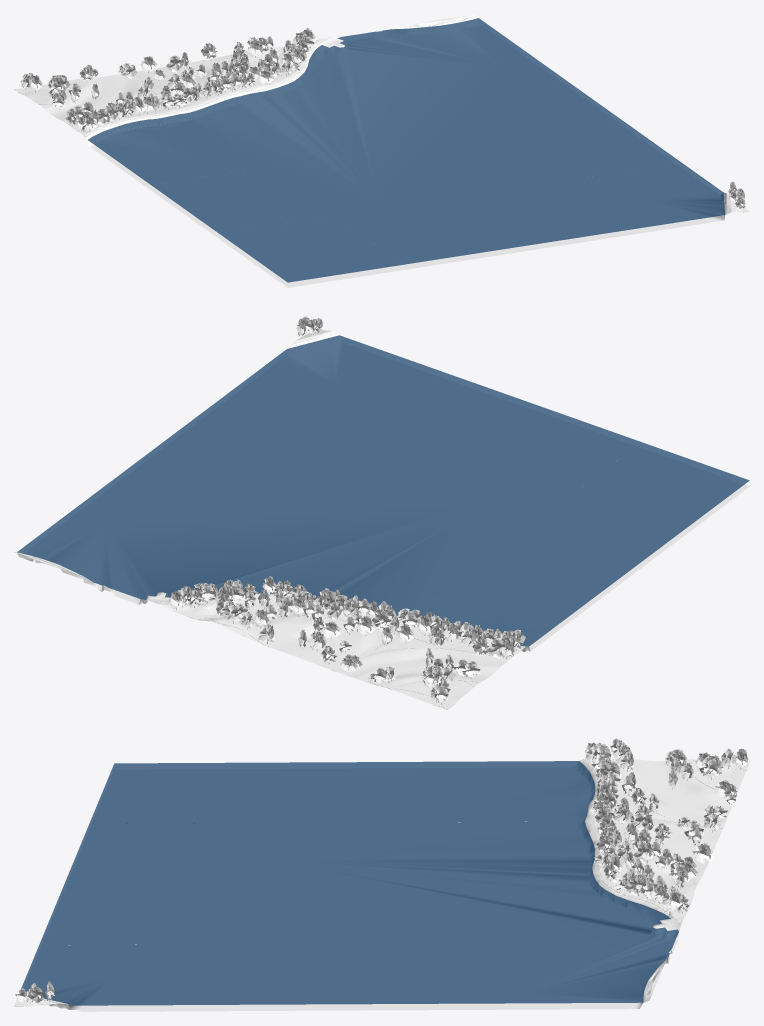
3 views of the same model, one above another, from view 1: azimuth 30°, elevation 25°; view 2: azimuth 150°, elevation 25°; view 3: azimuth 270°, elevation 25° (orthographic). The views are drawn at different scales.
Parts seen in each view (by area): view 1: geopipeinodejqbfL8Lh, geopipeinodeMIyDH3E1; view 2: geopipeinodejqbfL8Lh, geopipeinodeMIyDH3E1; view 3: geopipeinodejqbfL8Lh, geopipeinodeMIyDH3E1, geopipeinodeeSyOZ0QY.
Boxes of the visible parts, bbox=[...] form: geopipeinodejqbfL8Lh: bbox=[17, 15, 742, 287]; geopipeinodeMIyDH3E1: bbox=[88, 18, 724, 282]; geopipeinodejqbfL8Lh: bbox=[17, 329, 749, 708]; geopipeinodeMIyDH3E1: bbox=[17, 335, 749, 646]; geopipeinodejqbfL8Lh: bbox=[15, 759, 748, 1011]; geopipeinodeMIyDH3E1: bbox=[21, 761, 678, 1005]; geopipeinodeeSyOZ0QY: bbox=[632, 759, 730, 814].
Bounding box in the file's own units: 513 × 637 × 29.22.
